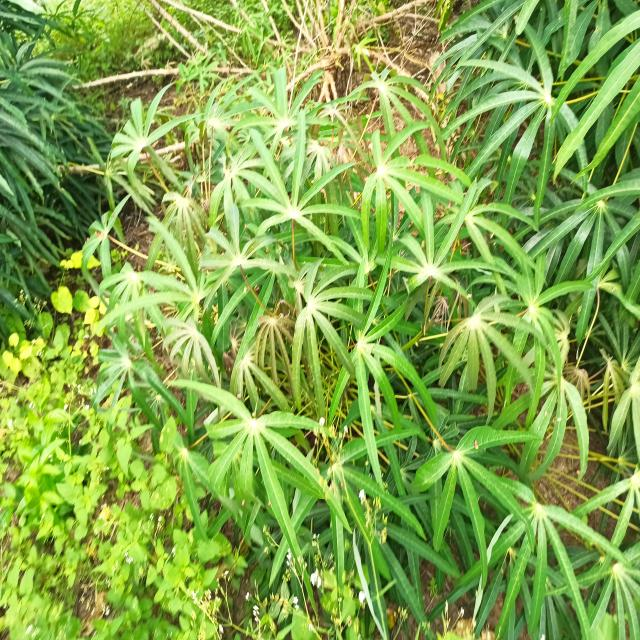Maleza: (4, 327, 110, 626), (62, 451, 190, 628)
Mosca: (412, 231, 429, 253), (326, 448, 340, 473), (471, 435, 488, 455), (204, 358, 220, 375), (241, 282, 257, 298), (238, 492, 249, 511), (406, 215, 417, 233), (234, 388, 246, 404)
